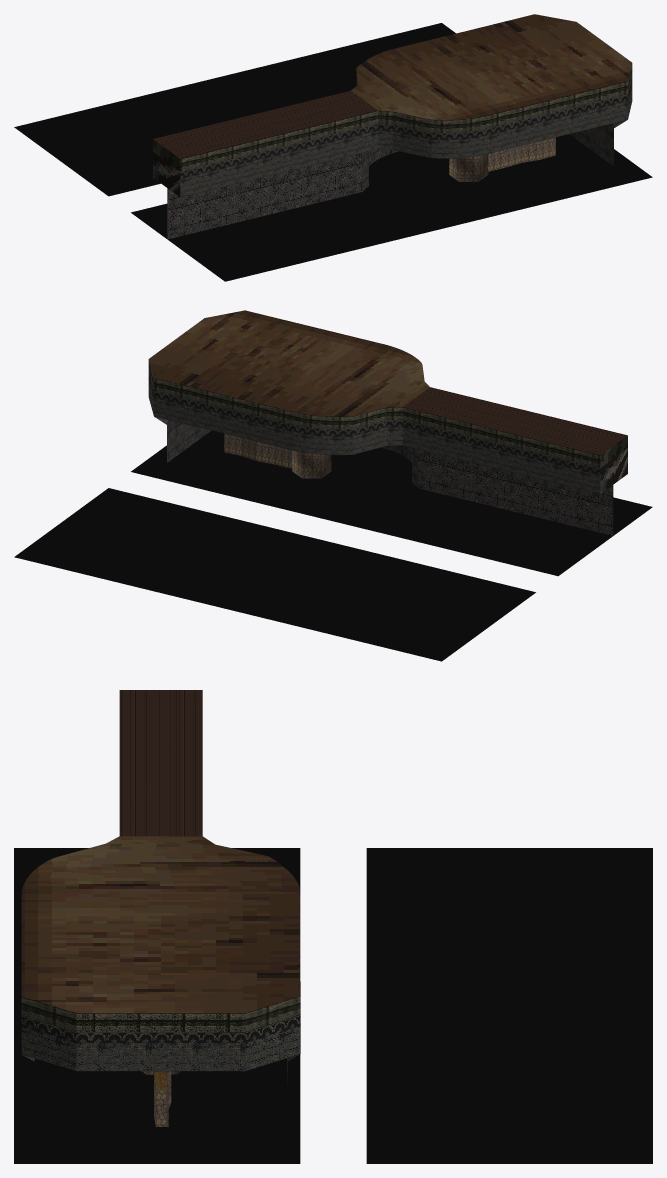
File: Triforces.obj
The picture shows the model from 3 angles, top to bottom: view 1: azimuth 30°, elevation 25°; view 2: azimuth 150°, elevation 25°; view 3: azimuth 270°, elevation 25°; orthographic projection. The views are drawn at different scales.
Visible parts, largest first — view 1: #Room0#_Void#KillingLava_black., #Room0#_Plane.010_BrownStone#SFX_2#WALLPROPERTY_NO_LEDGE_GRAB#FL, #Room0#_Void#Void.001_black., #Room0#_Plane.010_Wall#SFX_2, #Room0#_Plane.010_Metal_Cube#SFX_2#MirrorX, #Room0#_Plane.010_C2.#MirrorX, #Room0#_Stone_C44.#MirrorX#MirrorY; view 2: #Room0#_Void#Void.001_black., #Room0#_Plane.010_BrownStone#SFX_2#WALLPROPERTY_NO_LEDGE_GRAB#FL, #Room0#_Void#KillingLava_black., #Room0#_Plane.010_Wall#SFX_2, #Room0#_Plane.010_Metal_Cube#SFX_2#MirrorX, #Room0#_Plane.010_C2.#MirrorX, #Room0#_Stone_C44.#MirrorX#MirrorY; view 3: #Room0#_Void#Void.001_black., #Room0#_Plane.010_BrownStone#SFX_2#WALLPROPERTY_NO_LEDGE_GRAB#FL, #Room0#_Void#KillingLava_black., #Room0#_Plane.010_Wall#SFX_2, #Room0#_Plane.010_C2.#MirrorX, #Room0#_Stone_C44.#MirrorX#MirrorY.
Part boxes in pixels (left/top/right/bottom): #Room0#_Void#KillingLava_black.: left=131, top=134, right=652, bottom=281; #Room0#_Plane.010_BrownStone#SFX_2#WALLPROPERTY_NO_LEDGE_GRAB#FL: left=153, top=14, right=632, bottom=158; #Room0#_Void#Void.001_black.: left=14, top=23, right=455, bottom=196; #Room0#_Plane.010_Wall#SFX_2: left=153, top=76, right=632, bottom=197; #Room0#_Plane.010_Metal_Cube#SFX_2#MirrorX: left=167, top=120, right=626, bottom=239; #Room0#_Plane.010_C2.#MirrorX: left=153, top=64, right=632, bottom=171; #Room0#_Stone_C44.#MirrorX#MirrorY: left=449, top=137, right=555, bottom=181; #Room0#_Void#Void.001_black.: left=14, top=488, right=535, bottom=661; #Room0#_Plane.010_BrownStone#SFX_2#WALLPROPERTY_NO_LEDGE_GRAB#FL: left=149, top=310, right=627, bottom=455; #Room0#_Void#KillingLava_black.: left=131, top=430, right=652, bottom=576; #Room0#_Plane.010_Wall#SFX_2: left=148, top=372, right=627, bottom=493; #Room0#_Plane.010_Metal_Cube#SFX_2#MirrorX: left=155, top=417, right=613, bottom=535; #Room0#_Plane.010_C2.#MirrorX: left=148, top=359, right=627, bottom=467; #Room0#_Stone_C44.#MirrorX#MirrorY: left=224, top=433, right=331, bottom=478; #Room0#_Void#Void.001_black.: left=366, top=848, right=652, bottom=1163; #Room0#_Plane.010_BrownStone#SFX_2#WALLPROPERTY_NO_LEDGE_GRAB#FL: left=21, top=690, right=300, bottom=1013; #Room0#_Void#KillingLava_black.: left=14, top=848, right=300, bottom=1163; #Room0#_Plane.010_Wall#SFX_2: left=21, top=929, right=300, bottom=1071; #Room0#_Plane.010_C2.#MirrorX: left=21, top=896, right=300, bottom=1032; #Room0#_Stone_C44.#MirrorX#MirrorY: left=142, top=1071, right=180, bottom=1126.
Size of what is drawn, in the model's own units: 7229 by 1572 by 6040.
Materials: 11 (11 with a texture image).
